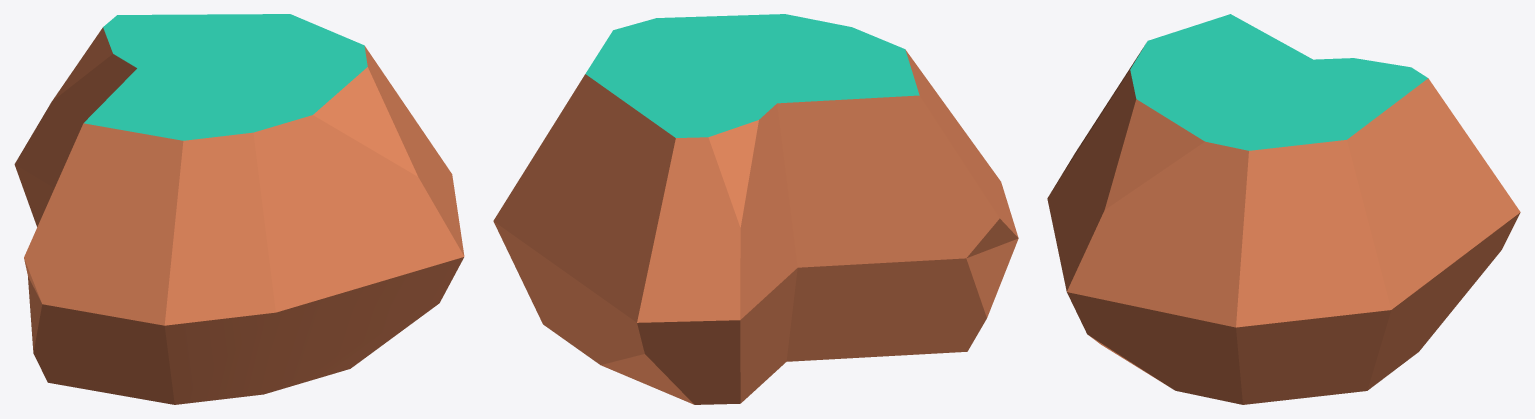
The model's file is rock_largeD.obj.
The picture shows the model from 3 angles, left to right: view 1: azimuth 30°, elevation 25°; view 2: azimuth 150°, elevation 25°; view 3: azimuth 270°, elevation 25°; orthographic projection. The views are drawn at different scales.
Visible parts, largest first — view 1: rock_largeD; view 2: rock_largeD; view 3: rock_largeD.
Boxes of the visible parts, x1,y1,x2,y2 form: rock_largeD: (14, 14, 464, 404); rock_largeD: (493, 14, 1018, 404); rock_largeD: (1047, 14, 1520, 404).
Bounding box in the file's own units: 1.07 × 0.5683 × 1.03.
